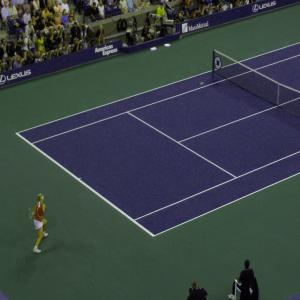TennisBall: (201, 82, 204, 86)
